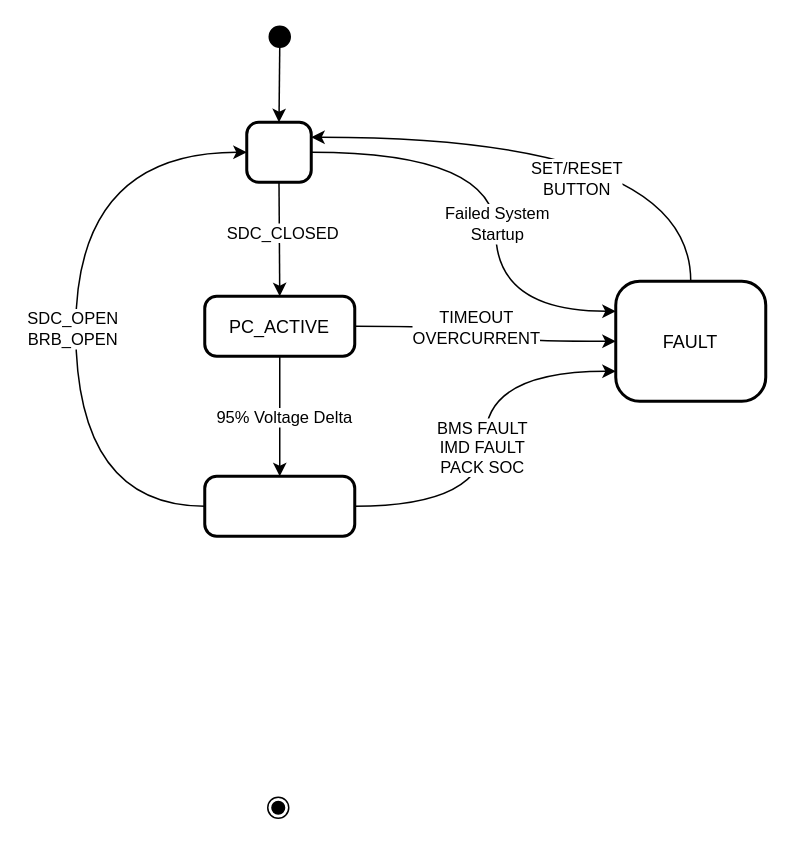
The diagram is 792 pixels wide and 845 high, and some of its shapes have lost their labels. The centre of each missing label's shape, as x and y in pixels:
"Idle" goes at point 278,151.
"TS_ACTIVE" goes at point 279,505.
